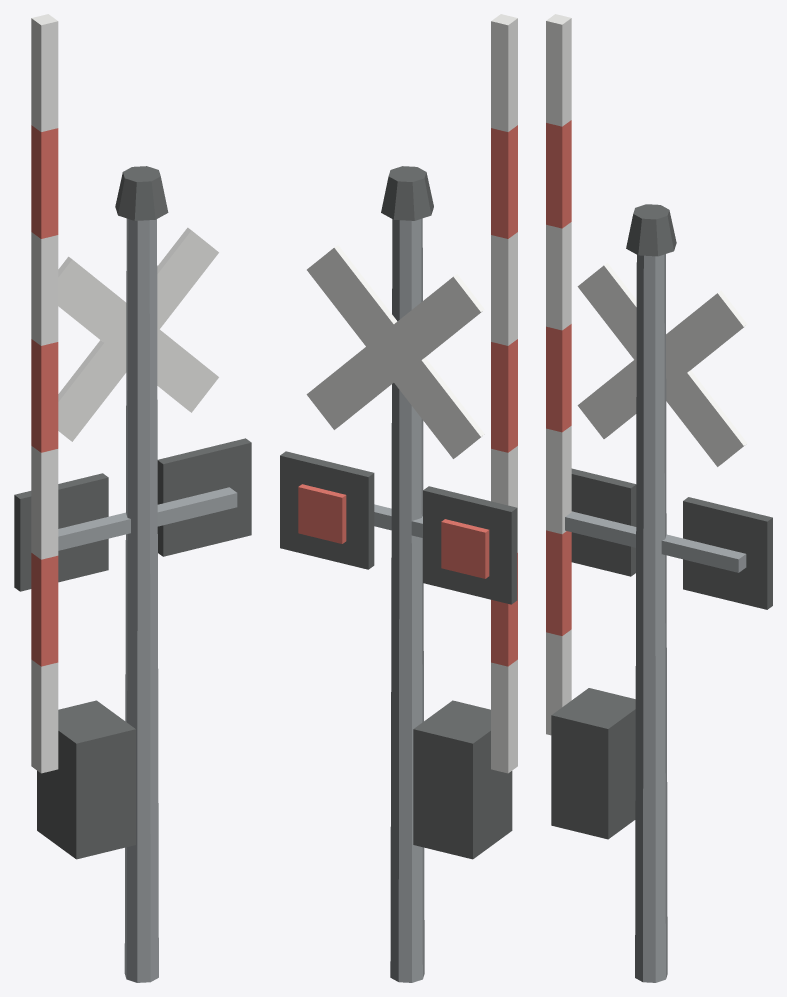
File: crossing-gate-1.glb
3 views of the same model, side by side, from view 1: azimuth 30°, elevation 25°; view 2: azimuth 150°, elevation 25°; view 3: azimuth 330°, elevation 25° (orthographic). The views are drawn at different scales.
Visible parts, largest first — view 1: crossing-gate-1; view 2: crossing-gate-1; view 3: crossing-gate-1.
Part boxes in pixels (x1,y1,x2,y2): crossing-gate-1: (14,14,251,982); crossing-gate-1: (280,14,517,982); crossing-gate-1: (546,14,772,982).
Size of the model in its own units: 0.2473 by 1 by 0.0727.
